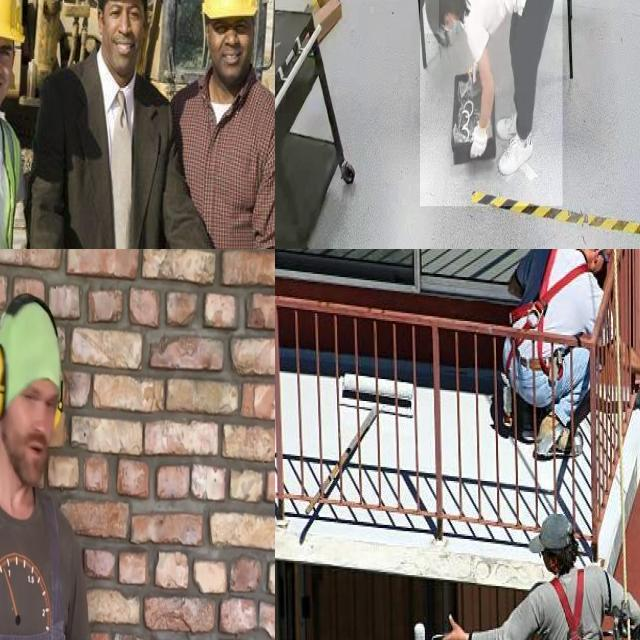Ear-protection: (0, 295, 65, 497)
Harness: (511, 249, 590, 332), (551, 570, 585, 640)
No_Ear-Protection: (95, 2, 109, 46)
No_Glasses: (104, 0, 142, 31), (211, 15, 254, 40), (0, 35, 18, 65)
hand_glove: (467, 116, 491, 162)
head_nohelmet: (424, 0, 439, 34)
person: (420, 0, 563, 207)
shoes: (498, 130, 534, 176), (496, 106, 532, 140)
